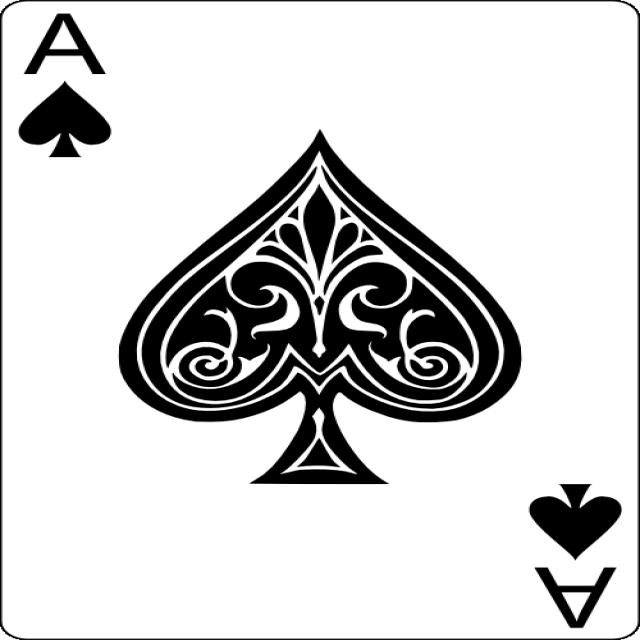Spade: (117, 129, 524, 484), (17, 81, 112, 157), (528, 483, 622, 559)
